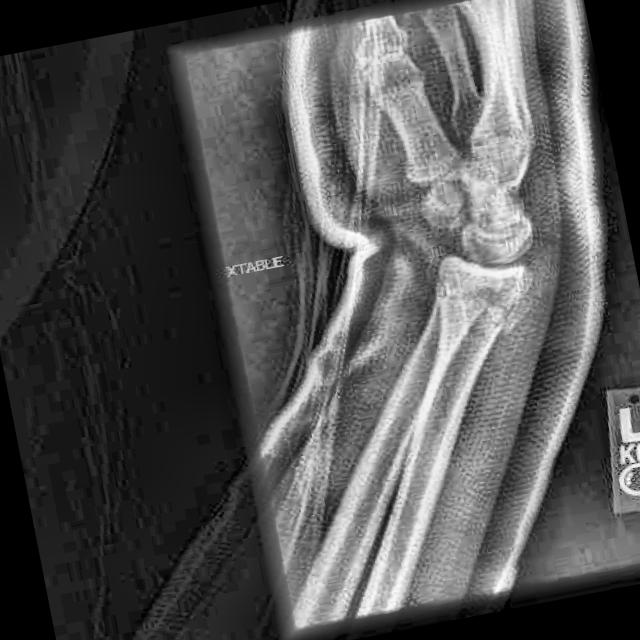fingers positive: (416, 264, 552, 349)
